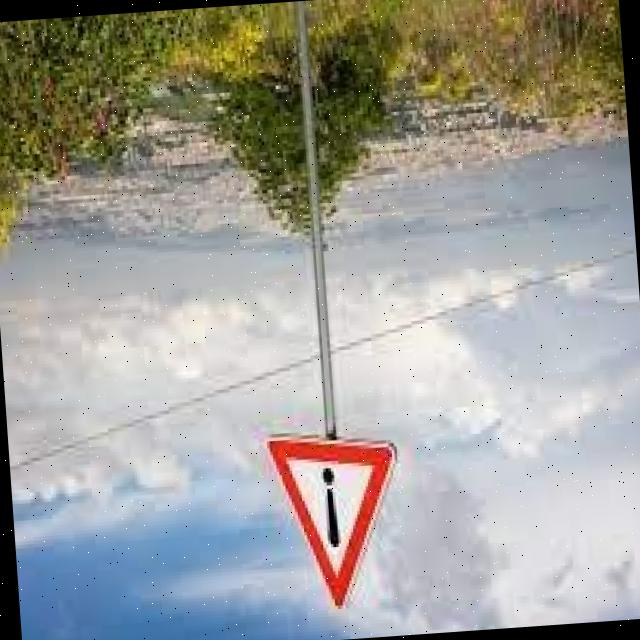warning: (250, 415, 412, 624)
